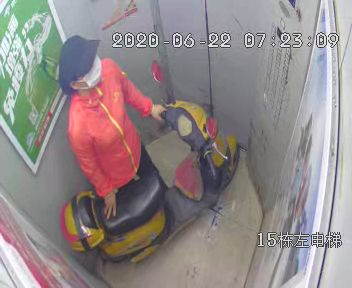Electric-bicycle: (65, 64, 243, 252)
